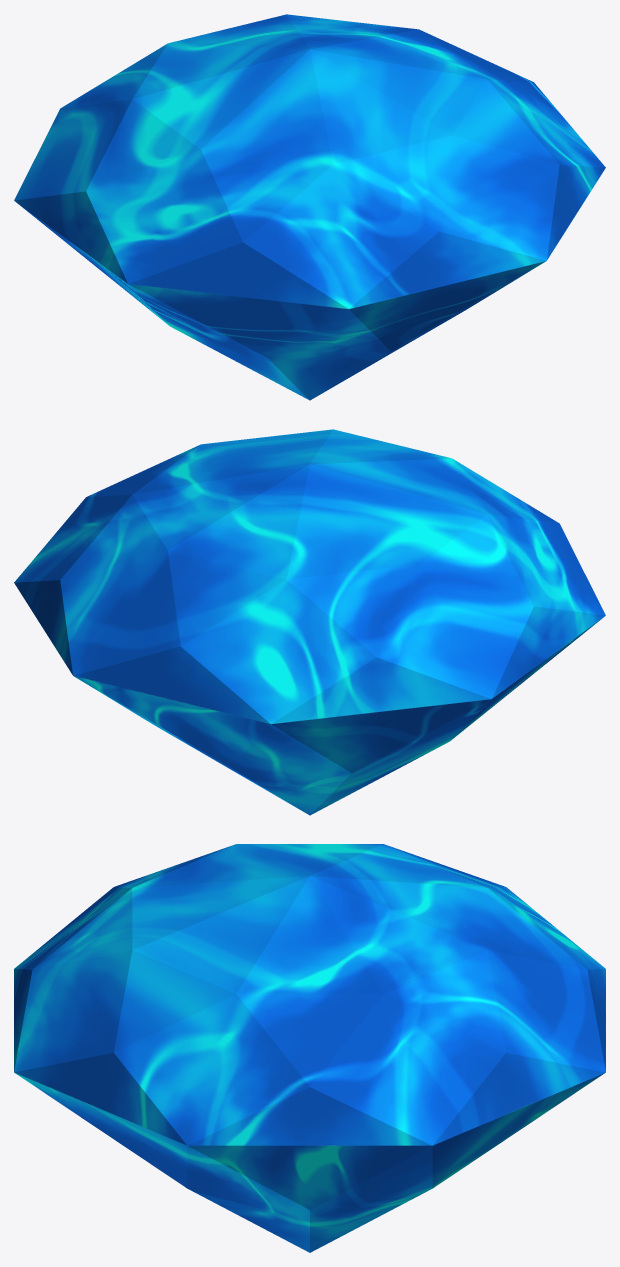
File: gem4.glb
3 views of the same model, one above another, from view 1: azimuth 30°, elevation 25°; view 2: azimuth 150°, elevation 25°; view 3: azimuth 270°, elevation 25° (orthographic). The views are drawn at different scales.
Visible parts, largest first — view 1: Gem; view 2: Gem; view 3: Gem.
Boxes of the visible parts, x1,y1,x2,y2 form: Gem: (14, 14, 605, 400); Gem: (14, 429, 605, 815); Gem: (14, 844, 605, 1252).
Bounding box in the file's own units: 185 × 130 × 185.
Materials: 1 (1 with a texture image).
